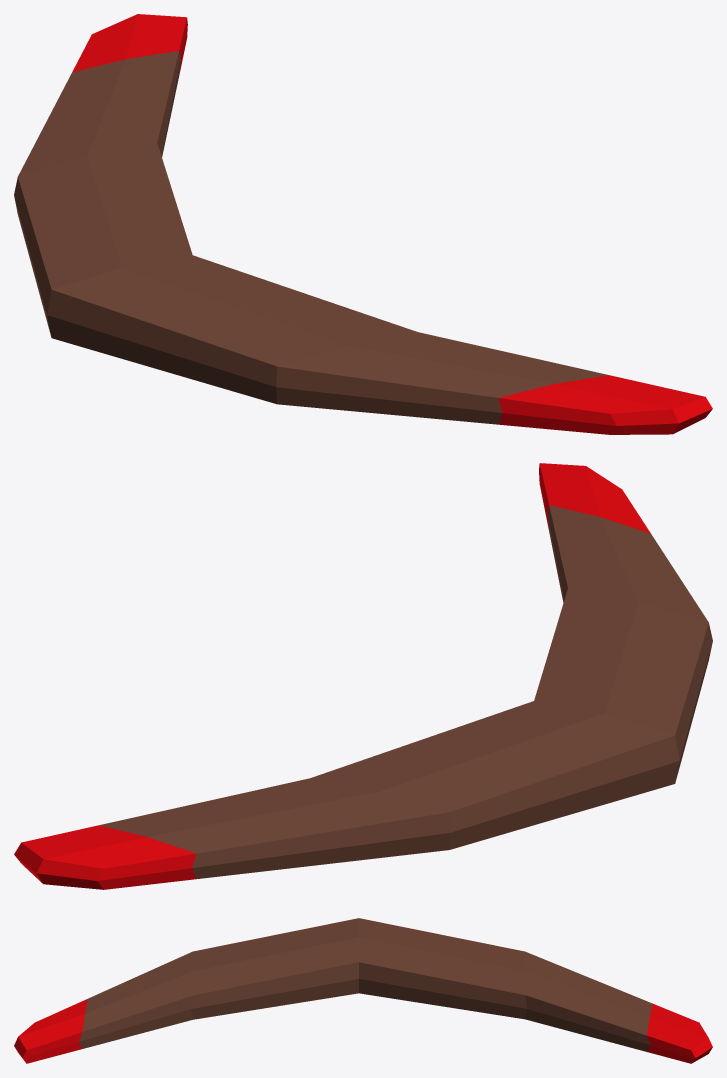
Rendered from boomerang.fbx.
The picture shows the model from 3 angles, top to bottom: view 1: azimuth 30°, elevation 25°; view 2: azimuth 150°, elevation 25°; view 3: azimuth 270°, elevation 25°; orthographic projection. The views are drawn at different scales.
Visible parts, largest first — view 1: Boomerang; view 2: Boomerang; view 3: Boomerang.
Part boxes in pixels (left/top/right/bottom): Boomerang: left=14, top=14, right=712, bottom=434; Boomerang: left=14, top=463, right=712, bottom=889; Boomerang: left=14, top=918, right=712, bottom=1063.
Bounding box in the file's own units: 114 × 15.55 × 266.
